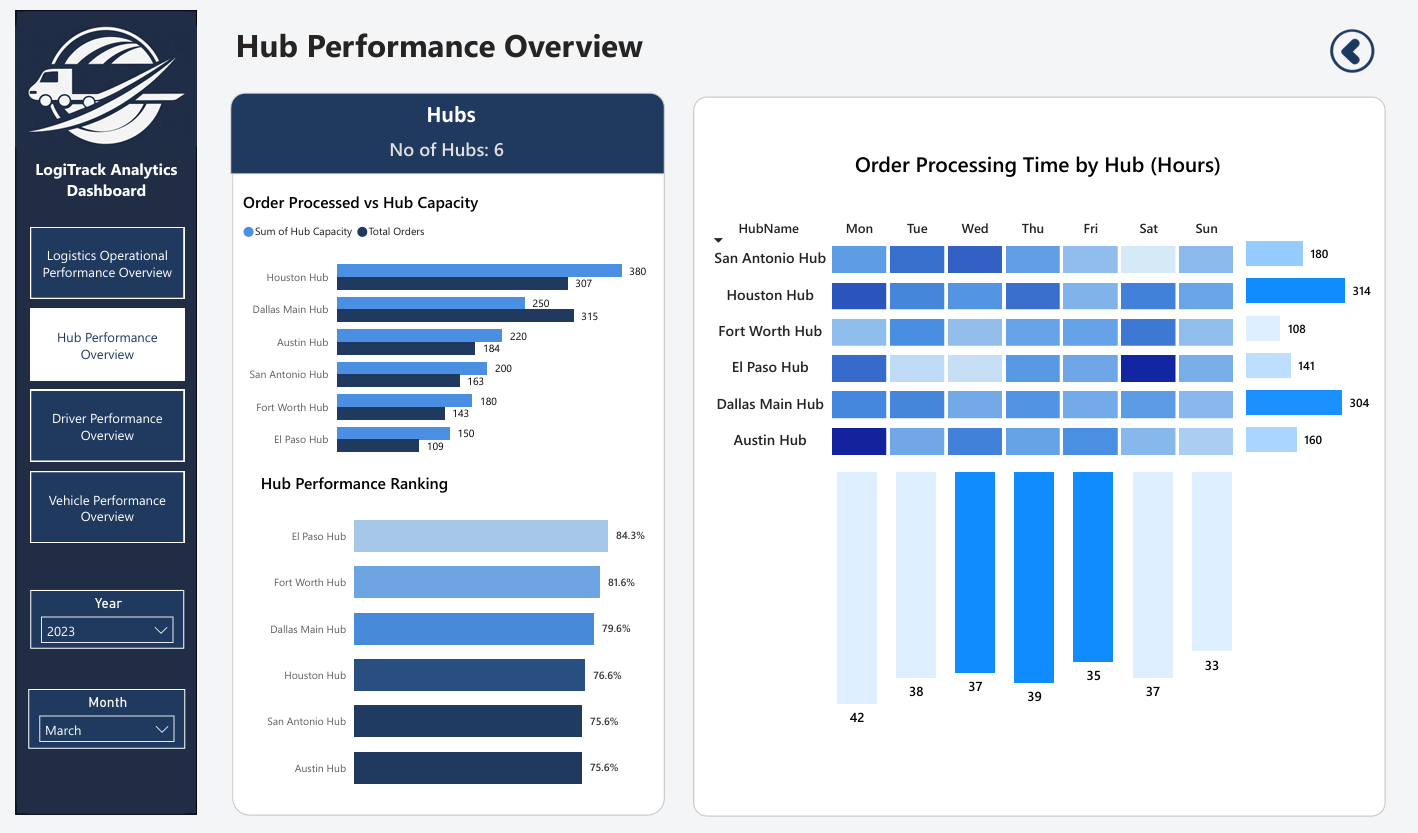

This screenshot's page, from the dashboard's own definition file:
{"tool":"powerbi","page":{"name":"Hub Performance Overview","canvas":[1450,850],"ordinal":1},"visuals":[{"type":"shape","box":[15,10,185,820],"z":0},{"type":"textbox","box":[234,18,814,70],"z":1000},{"type":"slicer","title":"Month","fields":{"Values":["Date Table.Month"]},"box":[28.3,701.7,160,61.7],"z":2000},{"type":"textbox","box":[22.2,155.6,171.1,73.3],"z":3000},{"type":"image","box":[15,10,185,155],"z":4000},{"type":"shape","box":[706,98,706,734],"z":5000},{"type":"shape","box":[235.7,95.7,441.4,735.7],"z":6000},{"type":"shape","box":[234.3,94.3,443,83],"z":7000},{"type":"textbox","box":[352.9,95.7,277.1,54.3],"z":8000},{"type":"cardVisual","fields":{"Data":["Hubs.No of Hubs"]},"box":[305.7,102.9,297.1,94.3],"z":9000},{"type":"clusteredBarChart","title":"Order Processed vs Hub Capacity","fields":{"Category":["Hubs.HubName"],"Y":["Sum(Hubs.Hub Capacity)","Orders.Total Orders"]},"box":[241.7,195,421.7,285],"z":10000},{"type":"barChart","title":"Hub Performance Ranking","fields":{"Category":["Hubs.HubName"],"Y":["Orders.On Time Delivery Rate"]},"box":[260,481.4,402.9,341.4],"z":11000},{"type":"image","box":[1330,16,96,74],"z":12000},{"type":"pivotTable","fields":{"Rows":["Hubs.HubName"],"Columns":["Date Table.Day"],"Values":["Orders.Avg Delivery Time (Hrs)"]},"box":[716.7,216.7,545,265],"z":13000},{"type":"columnChart","fields":{"Category":["Date Table.Day"],"Y":["Orders.Avg Delivery Time (Hrs)"]},"box":[848.3,466.7,413.3,283.3],"z":14000},{"type":"clusteredBarChart","fields":{"Category":["Hubs.HubName"],"Y":["CountNonNull(Orders.Actual Delivery Date)"]},"box":[1265,233.3,136.7,233.3],"z":15000},{"type":"cardVisual","fields":{"Data":["Hubs.Hub Title"]},"box":[705,128.3,705,73.3],"z":16000},{"type":"pageNavigator","box":[30,231.4,157.1,321.4],"z":17000},{"type":"slicer","title":"Year","fields":{"Values":["Date Table.Year"]},"box":[30,601.4,157.1,60],"z":18000}]}

Visuals, with their boxes on the page's 1450x850 design canvas (x1, y1, x2, y2). These are canvas units, not pixel positions in the 1418x833 screenshot, which may show the page scaled, cropped or inside an application window:
shape: box(15, 10, 200, 830)
textbox: box(234, 18, 1048, 88)
"Month" slicer: box(28, 702, 188, 763)
textbox: box(22, 156, 193, 229)
image: box(15, 10, 200, 165)
shape: box(706, 98, 1412, 832)
shape: box(236, 96, 677, 831)
shape: box(234, 94, 677, 177)
textbox: box(353, 96, 630, 150)
cardVisual - Hubs.No of Hubs: box(306, 103, 603, 197)
"Order Processed vs Hub Capacity" clusteredBarChart: box(242, 195, 663, 480)
"Hub Performance Ranking" barChart: box(260, 481, 663, 823)
image: box(1330, 16, 1426, 90)
pivotTable - Hubs.HubName x Date Table.Day: box(717, 217, 1262, 482)
columnChart - Date Table.Day x Orders.Avg Delivery Time (Hrs): box(848, 467, 1262, 750)
clusteredBarChart - Hubs.HubName x CountNonNull(Orders.Actual Delivery Date): box(1265, 233, 1402, 467)
cardVisual - Hubs.Hub Title: box(705, 128, 1410, 202)
pageNavigator: box(30, 231, 187, 553)
"Year" slicer: box(30, 601, 187, 661)
